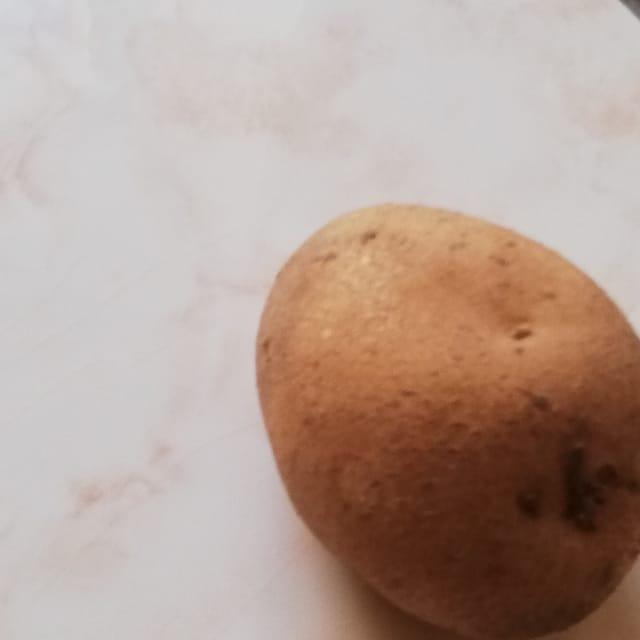potato: (228, 172, 640, 640)
